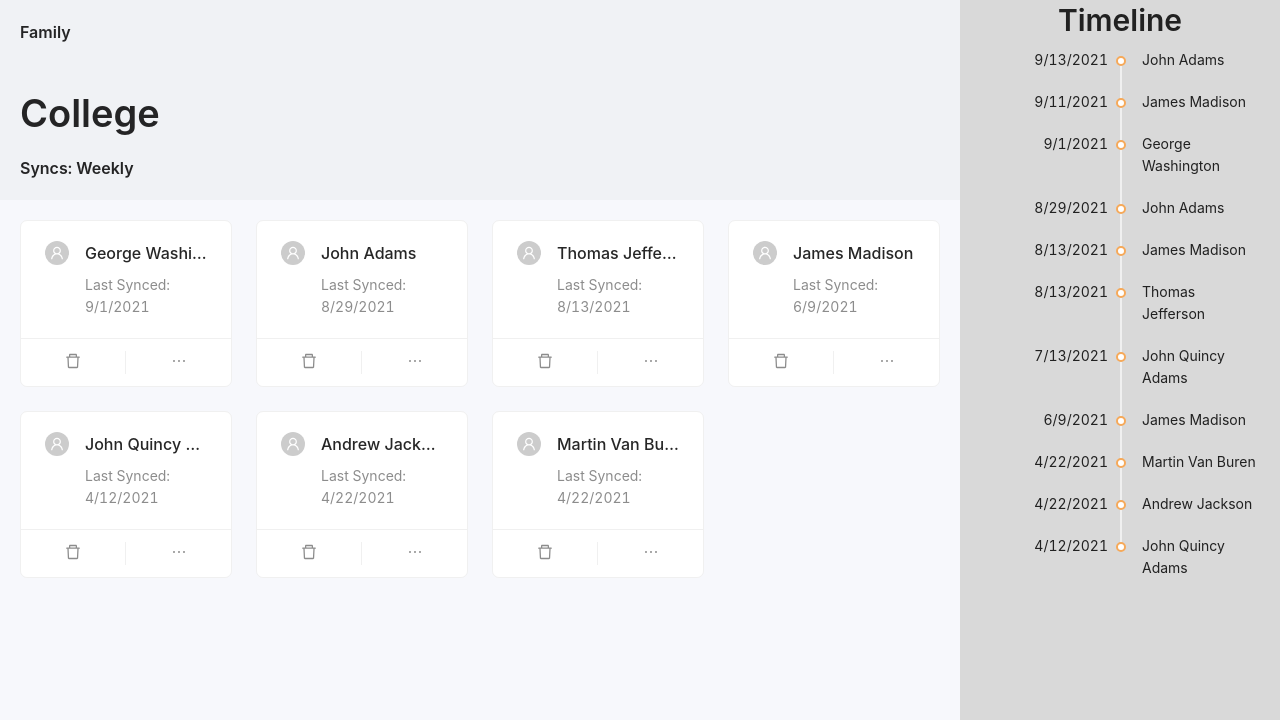
Test: renders confirmation when clicking delete
The image size is (1280, 720).
Click the picture named "delete" below "Last Synced: 9/1/2021": x=73, y=361 left=65, top=353, right=81, bottom=369
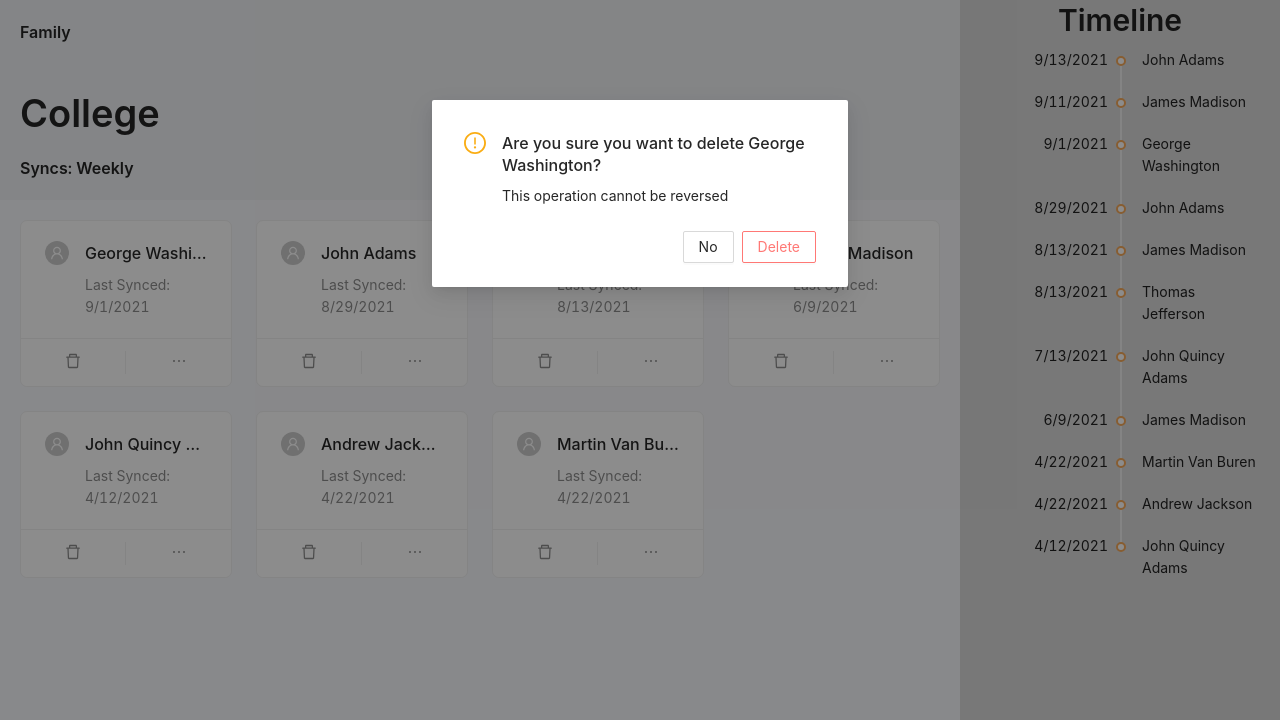
Expected: the text "This operation cannot be reversed" is shown, left=502, top=187, right=728, bottom=204
